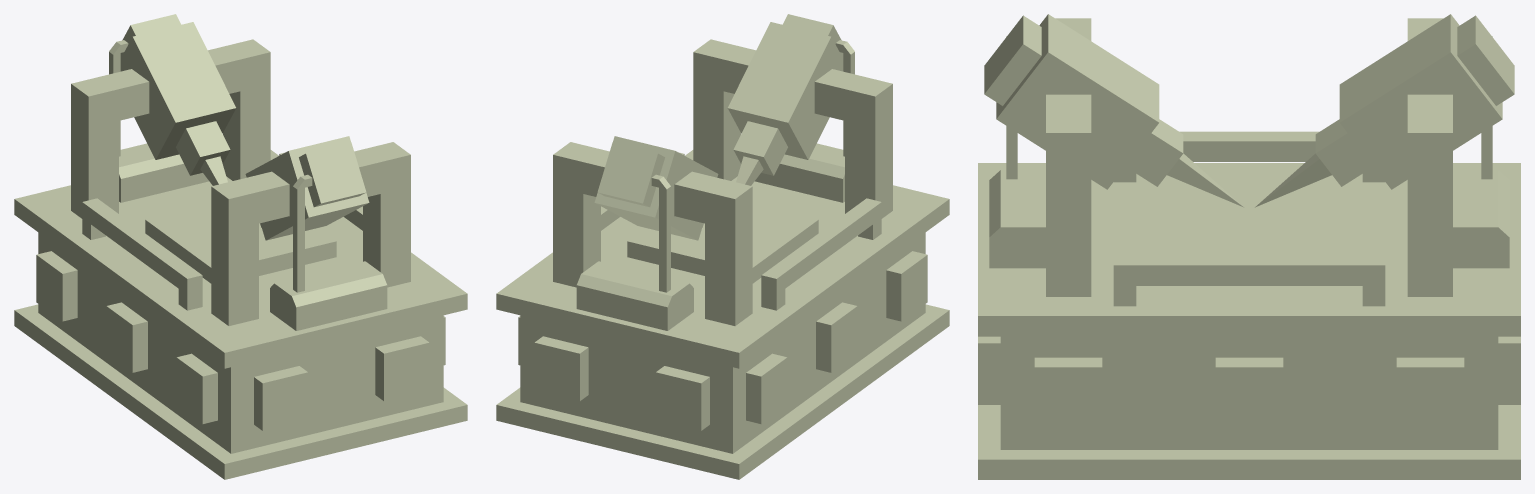
Rendered from arc_welder.obj.
The picture shows the model from 3 angles, left to right: view 1: azimuth 30°, elevation 25°; view 2: azimuth 150°, elevation 25°; view 3: azimuth 270°, elevation 25°; orthographic projection. The views are drawn at different scales.
Parts seen in each view (by area): view 1: Plane; view 2: Plane; view 3: Plane.
Boxes of the visible parts, <box> form: Plane: <box>14,14,467,479</box>; Plane: <box>496,14,949,479</box>; Plane: <box>978,14,1520,479</box>.
Size of the model in its own units: 2 by 2.28 by 3.
